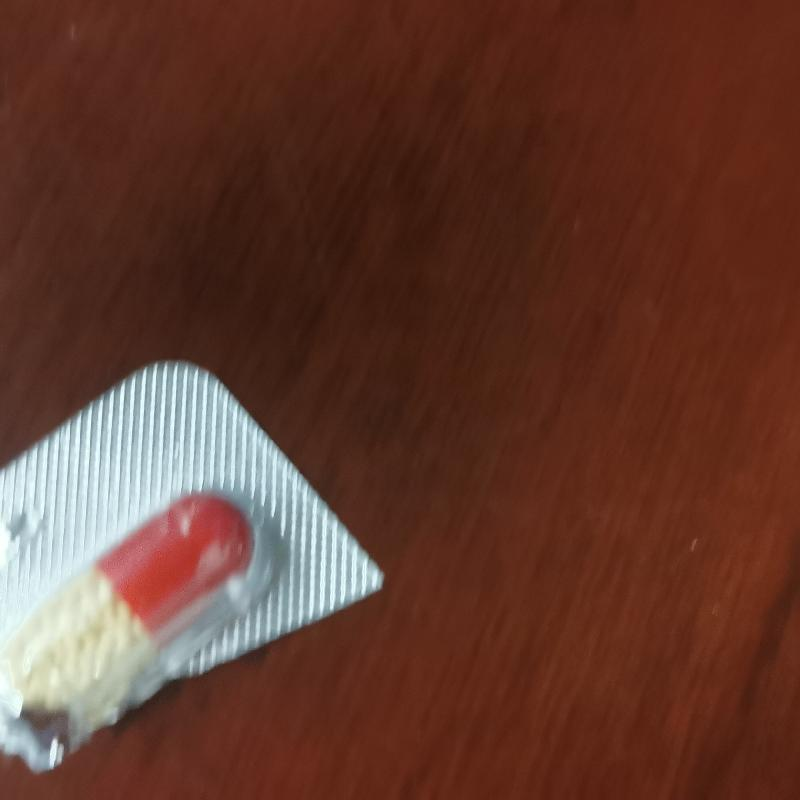pills: (4, 495, 265, 724)
